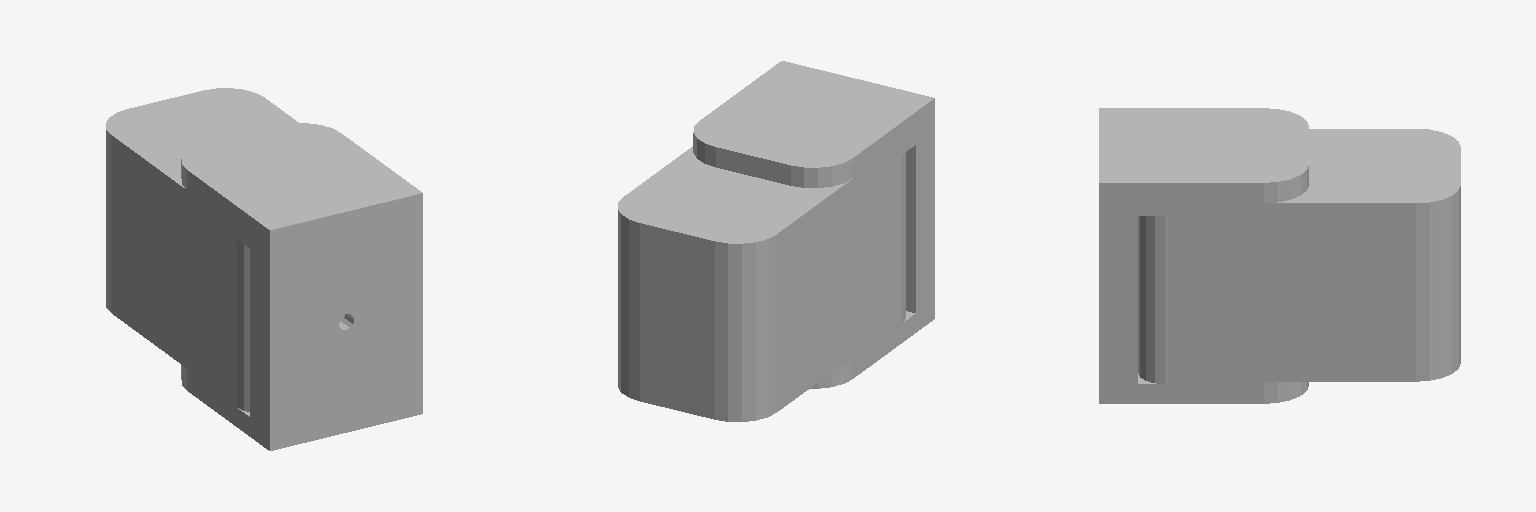
3 renders of one model, left to right at view 1: azimuth 30°, elevation 25°; view 2: azimuth 150°, elevation 25°; view 3: azimuth 270°, elevation 25°, orthographic.
Visible parts, largest first — view 1: <STL_BINARY>; view 2: <STL_BINARY>; view 3: <STL_BINARY>.
Boxes of the visible parts, x1=… form: <STL_BINARY>: x1=106, y1=88, x2=422, y2=450; <STL_BINARY>: x1=618, y1=61, x2=934, y2=421; <STL_BINARY>: x1=1099, y1=108, x2=1460, y2=403.
Size of the model in its own units: 0.0196 by 0.027 by 0.0401.